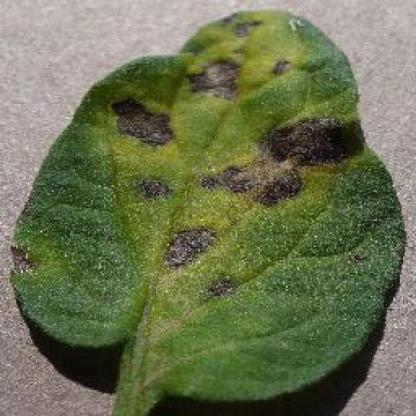Tomato_Blight: (10, 13, 401, 400)
